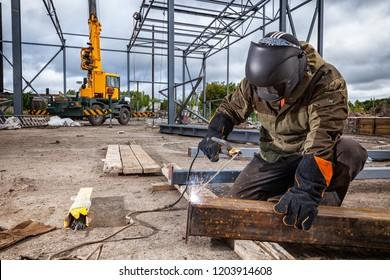gloves: (273, 154, 334, 231), (198, 111, 233, 162)
